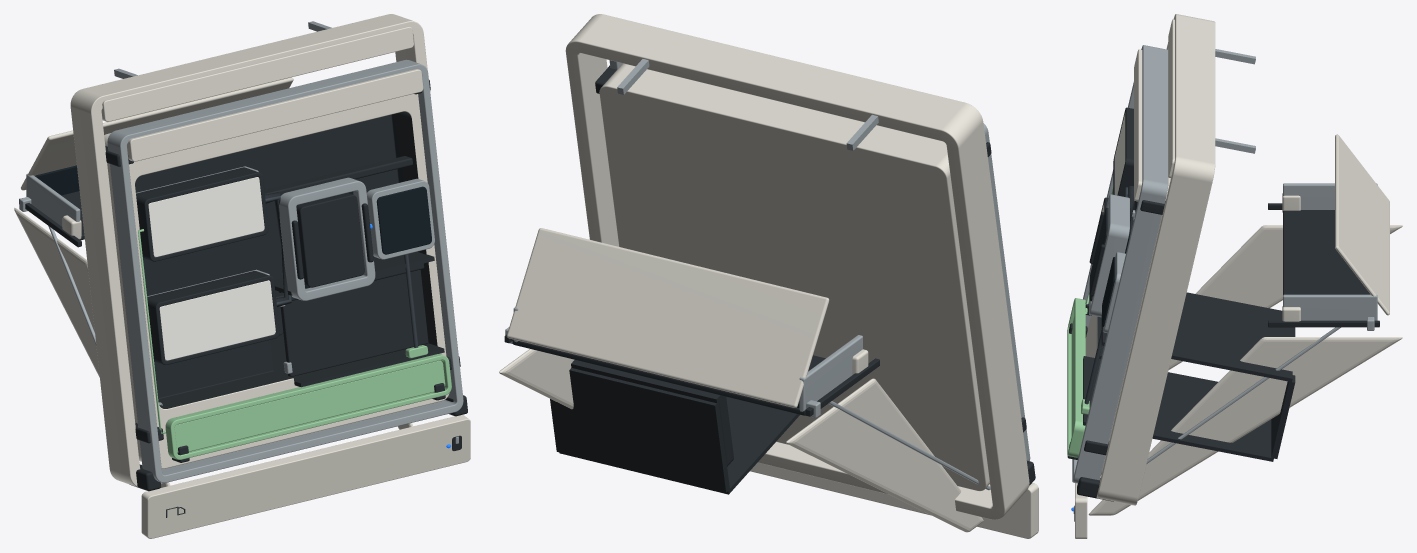
The model's file is shipping-v2-frame313-baked.glb.
3 renders of one model, left to right at view 1: azimuth 30°, elevation 25°; view 2: azimuth 150°, elevation 25°; view 3: azimuth 270°, elevation 25°, orthographic. The views are drawn at different scales.
Parts seen in each view (by area): view 1: Eligibility bed, Eligibility open frame, Quote open frame, Shipping face, Run02 service bay cover, Selected test rail core, Eligibility heading, Quote label bridge, INPUT_THRESHOLD enamel, INPUT_SUBTOTAL enamel, HEAD_OPERATOR insert, Selected test rail (+13 smaller); view 2: Eligibility bed, Quote open frame, Shipping upper shell, Run02 service bay rear, Shipping cutaway cheek, Run02 service bay wall, Shipping face, Shipping cutaway cheek.001, Shipping folded sidewall, Shipping pan, Eligibility open frame, Run02 service bay wall.001 (+2 smaller); view 3: Quote open frame, Shipping cutaway cheek.001, Eligibility open frame, Run02 service bay wall.001, Shipping upper shell, Shipping pan, Shipping cutaway cheek, Run02 service bay wall, Selected test rail, Shipping folded sidewall.001, Comparator receiver, Eligibility heading (+14 smaller).
Boxes of the visible parts, bbox=[...] form: Eligibility bed: bbox=[104, 94, 449, 468]; Eligibility open frame: bbox=[107, 59, 463, 482]; Quote open frame: bbox=[70, 14, 427, 486]; Shipping face: bbox=[141, 415, 470, 538]; Run02 service bay cover: bbox=[279, 269, 428, 376]; Selected test rail core: bbox=[174, 360, 445, 453]; Eligibility heading: bbox=[127, 69, 423, 161]; Quote label bridge: bbox=[101, 26, 413, 121]; INPUT_THRESHOLD enamel: bbox=[159, 280, 275, 360]; INPUT_SUBTOTAL enamel: bbox=[148, 177, 264, 257]; HEAD_OPERATOR insert: bbox=[296, 193, 364, 287]; Selected test rail: bbox=[165, 354, 451, 459]; Eligibility bed: bbox=[599, 63, 989, 491]; Quote open frame: bbox=[565, 14, 1029, 519]; Shipping upper shell: bbox=[507, 228, 829, 407]; Run02 service bay rear: bbox=[550, 368, 729, 492]; Shipping cutaway cheek: bbox=[786, 378, 983, 532]; Run02 service bay wall: bbox=[559, 397, 799, 494]; Shipping face: bbox=[750, 462, 1038, 538]; Shipping cutaway cheek.001: bbox=[499, 349, 574, 409]; Shipping folded sidewall: bbox=[799, 335, 862, 411]; Shipping pan: bbox=[512, 339, 825, 415]; Eligibility open frame: bbox=[609, 60, 1030, 460]; Run02 service bay wall.001: bbox=[571, 360, 723, 403]; Quote open frame: bbox=[1096, 14, 1215, 505]; Shipping cutaway cheek.001: bbox=[1088, 337, 1402, 515]; Eligibility open frame: bbox=[1072, 45, 1168, 483]; Run02 service bay wall.001: bbox=[1101, 292, 1292, 381]; Shipping upper shell: bbox=[1335, 134, 1389, 315]; Shipping pan: bbox=[1283, 210, 1370, 294]; Shipping cutaway cheek: bbox=[1168, 225, 1402, 369]; Run02 service bay wall: bbox=[1083, 356, 1273, 461]; Selected test rail: bbox=[1067, 298, 1085, 457]; Shipping folded sidewall.001: bbox=[1283, 294, 1377, 320]; Comparator receiver: bbox=[1089, 194, 1129, 317]; Eligibility heading: bbox=[1134, 49, 1142, 201].
Bounding box in the file's own units: 6.19 × 7.16 × 5.73.
